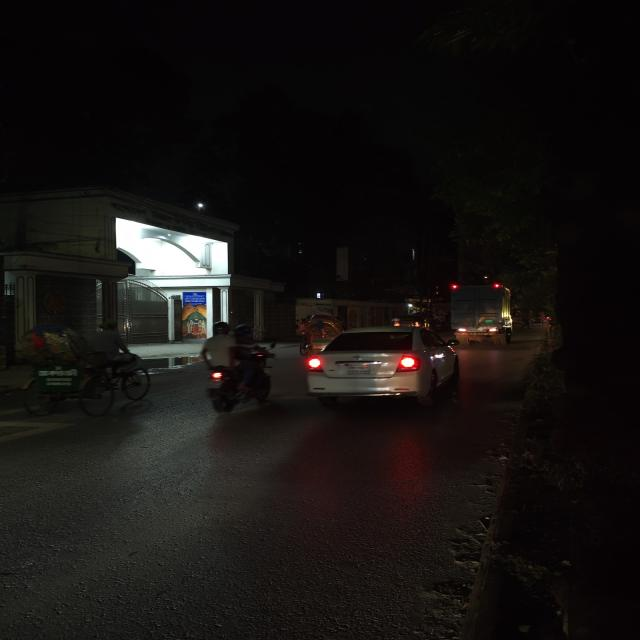car: (311, 323, 463, 414)
motorcycle: (179, 310, 287, 420)
rickshaw: (14, 316, 164, 425), (296, 313, 341, 351)
truck: (448, 280, 516, 352)
